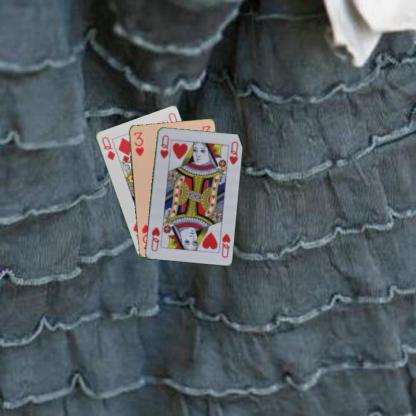3h: (131, 129, 145, 157)
Qd: (99, 134, 116, 161)
Qh: (157, 132, 170, 160), (219, 231, 231, 259)
